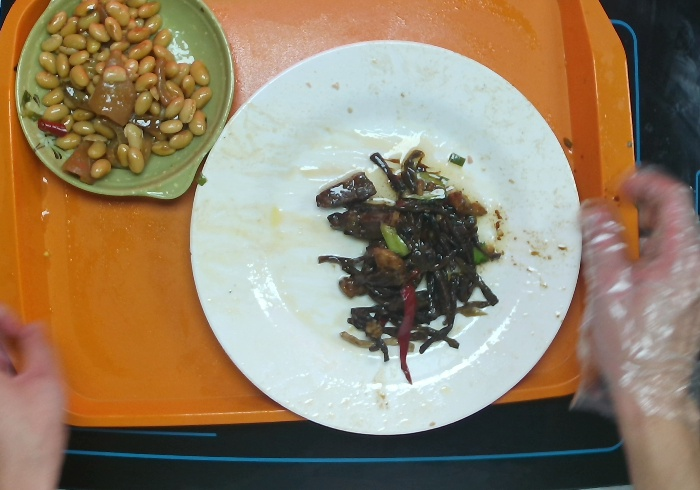NLDX-Da_Yuan_Pan: (188, 37, 584, 440)
NLDX-Lv_Hua_Shuang_Er_Die: (11, 1, 236, 205)
